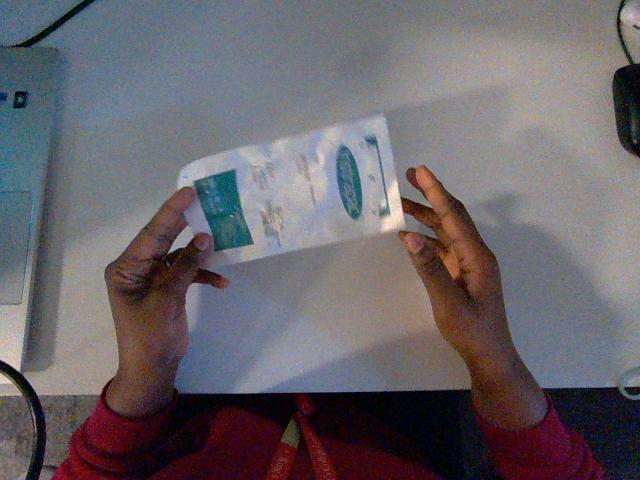gallipot: (178, 116, 403, 267)
